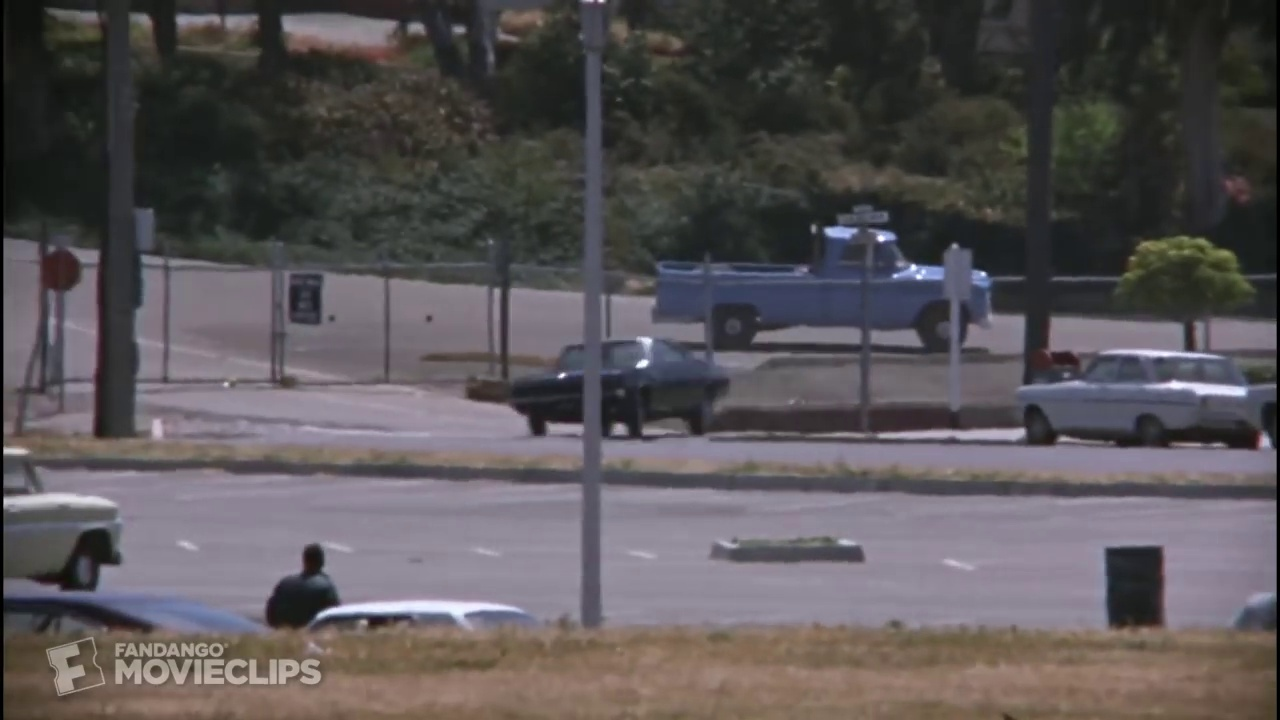car: (994, 343, 1280, 459), (499, 326, 739, 444), (1, 435, 153, 596), (1, 576, 275, 638), (294, 586, 547, 634)
person: (250, 531, 350, 629)
stop sign: (35, 237, 89, 298)
truck: (639, 213, 1015, 361)
